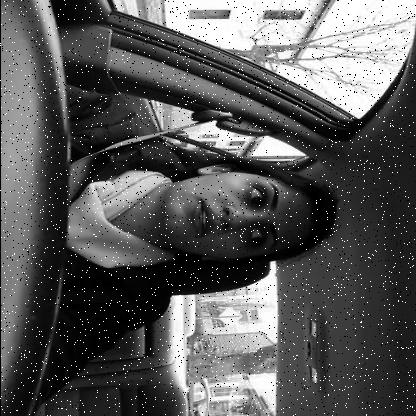seatbelt: (66, 106, 340, 276)
